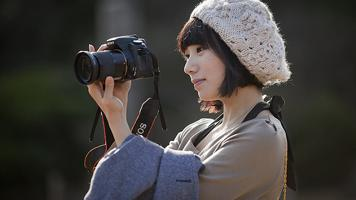person: (87, 2, 293, 199)
